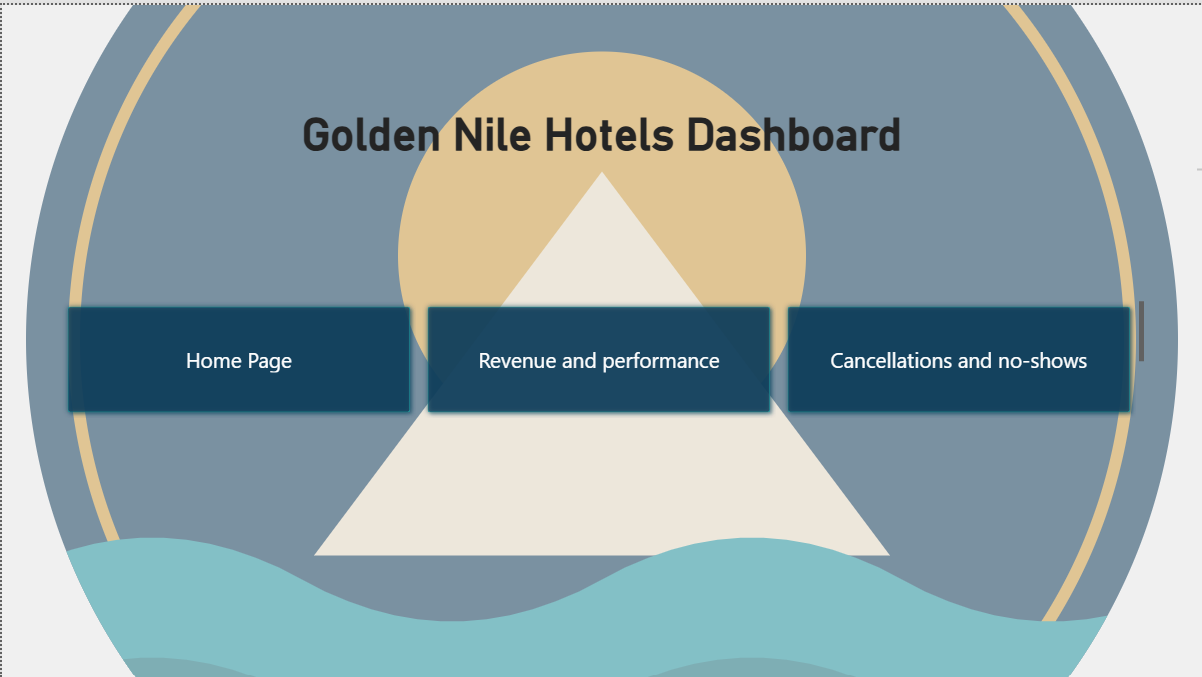

This screenshot's page, from the dashboard's own definition file:
{"tool":"powerbi","page":{"name":"Landing Page ","canvas":[1920,1080],"ordinal":0},"visuals":[{"type":"pageNavigator","box":[95.2,473.9,1731.6,192.2],"z":0},{"type":"textbox","title":"Golden Nile Hotels Dashboard","box":[0,164.2,1920.1,100.8],"z":1000}]}

Visuals, with their boxes in screenshot pixels (x1, y1, x2, y2), scaled from the page's 1920x1080 canvas onto the 1202x677 screenshot:
pageNavigator: bbox=[60, 297, 1144, 418]
"Golden Nile Hotels Dashboard" textbox: bbox=[0, 103, 1201, 166]
